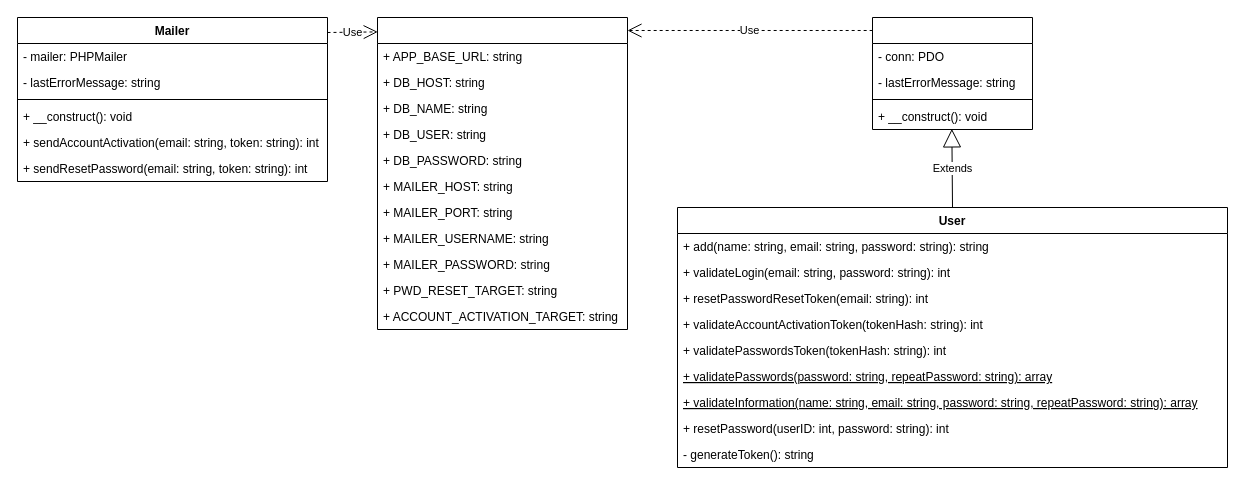
Some shapes in this 1245 by 488 pixel diagram are drawn without their labels. Here are the shapes that lost their labels. From the top down, the box of each, then its label:
(872, 16, 1032, 130): Database (abstract)
(376, 16, 628, 330): Config
